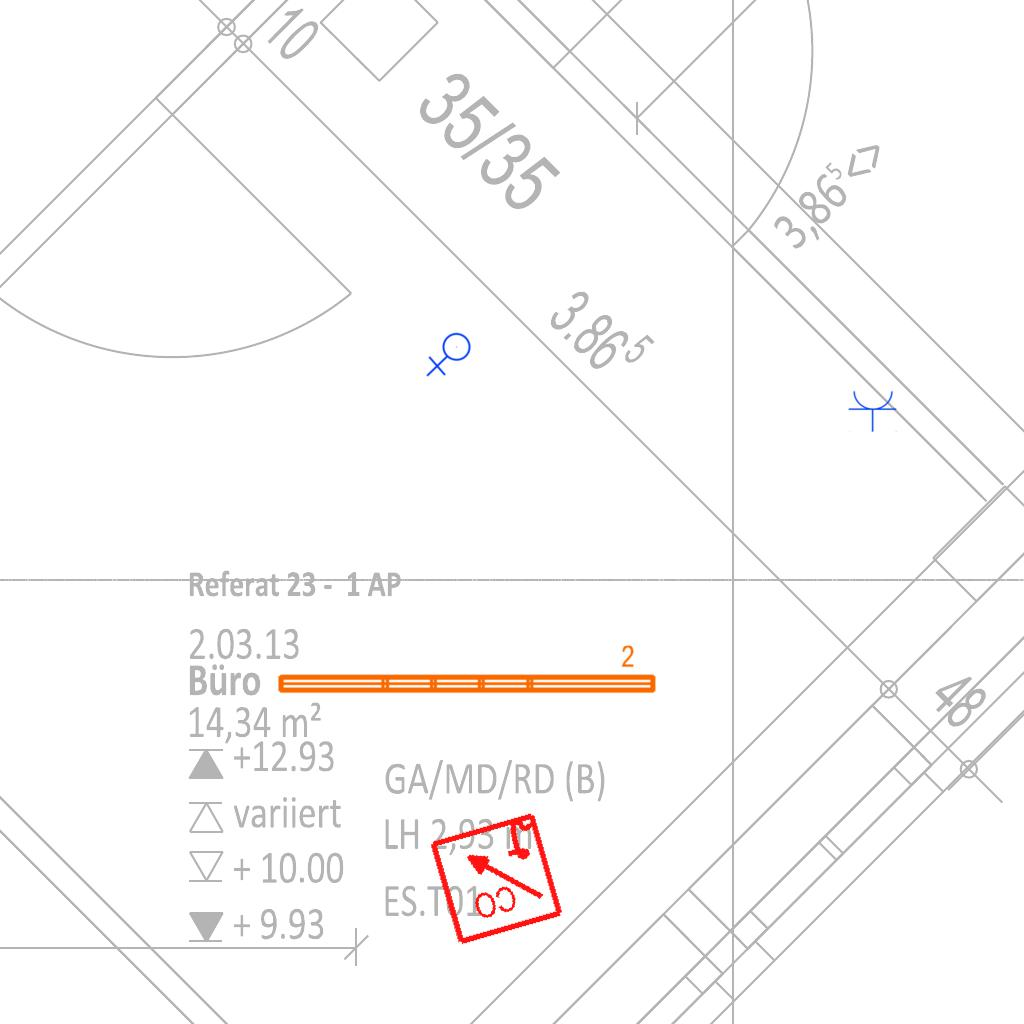Ambulanz_Pendelleuchte_LED: (273, 643, 660, 699)
Elektroanschluss_allgemein_230V_Geraeteanschlussdose_230V: (426, 332, 475, 379)
ROA_Rauchmelder_optisch_mit_Signalgeber_(Sockelsirene): (425, 807, 566, 948)
Schukosteckdose_einfach: (848, 389, 898, 432)
